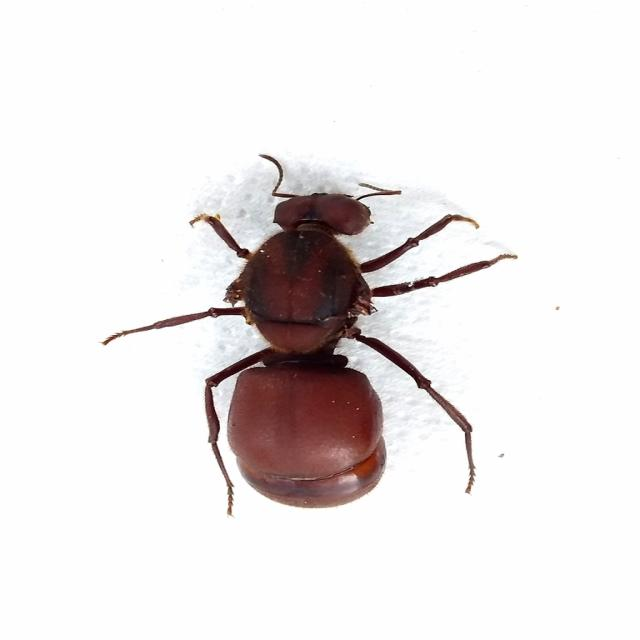Dead-Female-Dealate: (96, 153, 519, 518)
